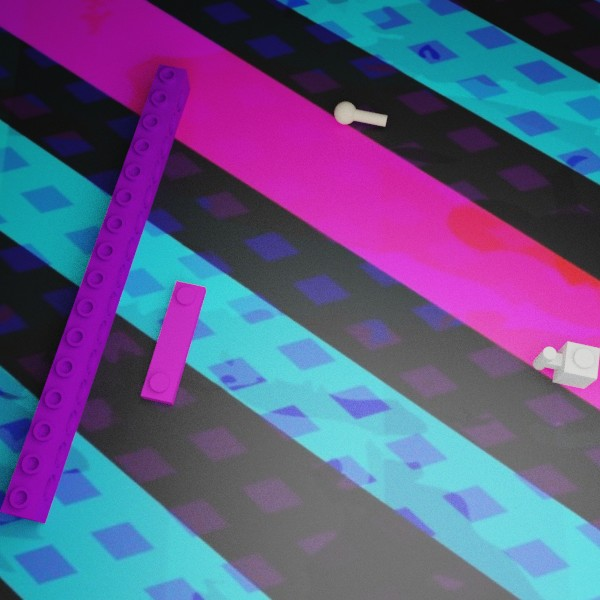lego: (0, 64, 190, 523), (140, 280, 206, 405), (532, 341, 600, 388), (334, 101, 387, 126)
